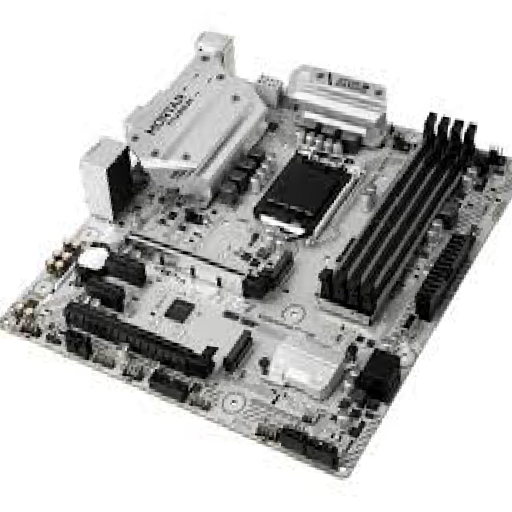CPU: (252, 149, 363, 237)
GPU: (65, 301, 213, 377), (122, 231, 268, 296)
MOTHERBOARD: (4, 73, 512, 475)
RAM: (318, 110, 477, 325)
SSD: (221, 331, 255, 373), (262, 249, 296, 282)
